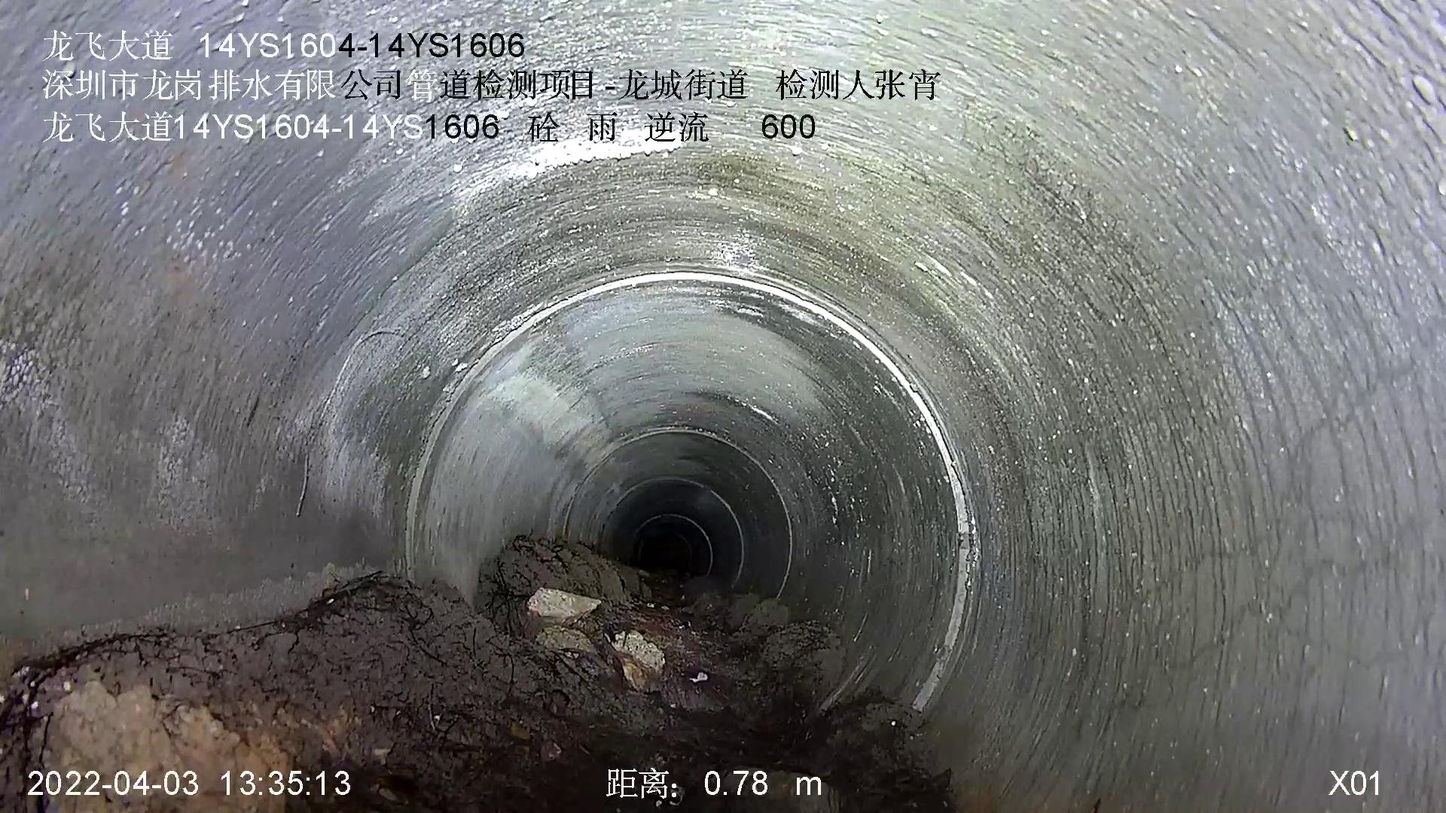CJ: (0, 540, 950, 812)
CKTJ: (399, 266, 981, 710)
